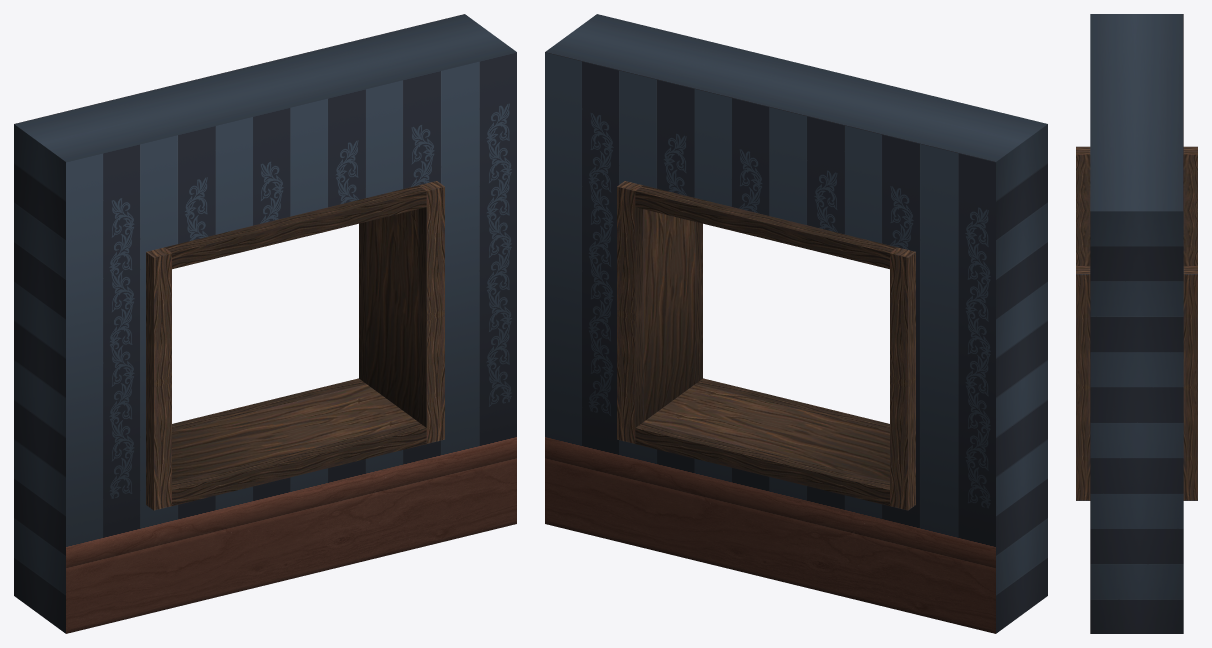
The model's file is Wall_Window.fbx.
3 views of the same model, side by side, from view 1: azimuth 30°, elevation 25°; view 2: azimuth 150°, elevation 25°; view 3: azimuth 270°, elevation 25° (orthographic). The views are drawn at different scales.
Visible parts, largest first — view 1: Wall_Window; view 2: Wall_Window; view 3: Wall_Window.
Boxes of the visible parts, x1,y1,x2,y2 form: Wall_Window: (14, 14, 516, 633); Wall_Window: (545, 14, 1047, 633); Wall_Window: (1076, 14, 1197, 633).
Size of the model in its own units: 0.05 by 0.05 by 0.013.
